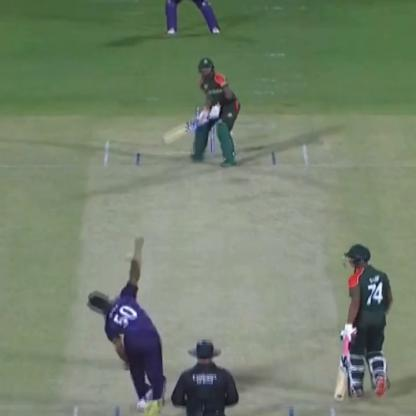ball: (120, 249, 142, 266), (130, 237, 146, 245)
bat: (324, 338, 356, 410), (158, 115, 212, 140)
pitch: (61, 131, 335, 416)
